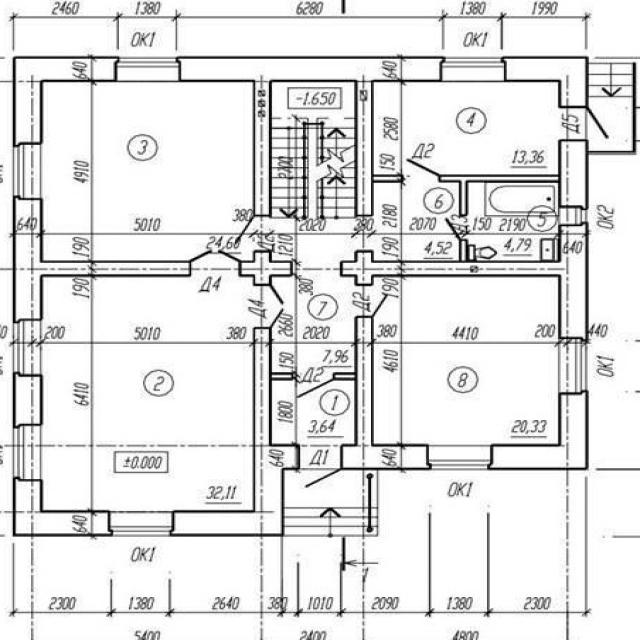Bathrooms: (467, 182, 559, 260)
Corridors: (271, 277, 353, 372), (375, 182, 459, 260), (273, 380, 354, 443), (272, 220, 355, 260)
Doors: (300, 445, 343, 491), (560, 106, 610, 141), (188, 247, 241, 276), (254, 284, 287, 329), (231, 214, 270, 251), (292, 372, 336, 400), (355, 286, 390, 318), (401, 155, 441, 182), (442, 214, 469, 240), (292, 262, 341, 276), (355, 217, 372, 248)
LBwalls: (176, 55, 445, 217), (341, 222, 588, 341), (169, 327, 302, 537), (13, 195, 190, 323), (340, 316, 432, 470), (12, 56, 120, 147), (487, 389, 590, 470), (13, 477, 113, 536), (502, 55, 589, 108), (558, 139, 588, 209), (238, 249, 294, 286), (13, 372, 42, 428)
Offices: (42, 276, 253, 509), (41, 81, 253, 260), (374, 276, 558, 443), (374, 80, 558, 174)
Stairs: (270, 80, 357, 220), (285, 470, 379, 537), (588, 55, 632, 151)
Walls: (438, 174, 559, 216), (588, 61, 638, 155), (373, 175, 404, 182), (270, 372, 297, 380), (459, 240, 467, 261), (333, 373, 355, 380)
Windows: (428, 445, 492, 471), (109, 510, 172, 535), (13, 426, 42, 480), (13, 144, 42, 198), (14, 321, 42, 375), (117, 58, 180, 82), (442, 57, 505, 81), (559, 338, 586, 393), (559, 208, 587, 224)
